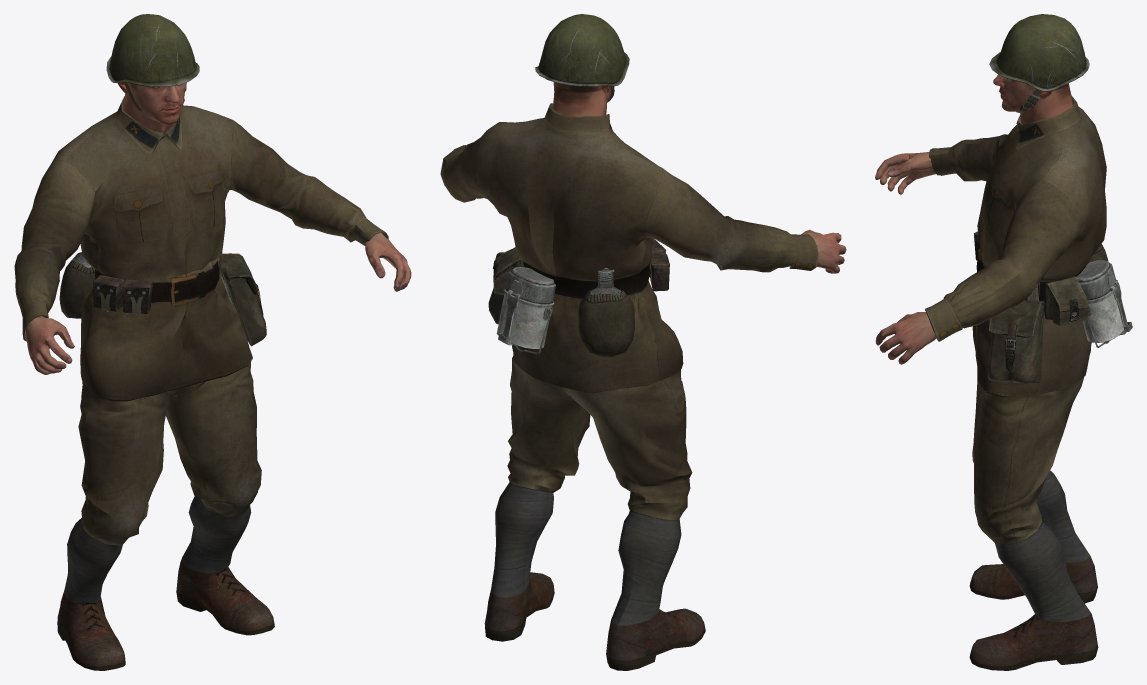
File: russianSoldier.glb
3 views of the same model, side by side, from view 1: azimuth 30°, elevation 25°; view 2: azimuth 150°, elevation 25°; view 3: azimuth 270°, elevation 25° (orthographic).
Parts seen in each view (by area): view 1: Object_5, Object_4, Object_3; view 2: Object_5, Object_4, Object_3; view 3: Object_5, Object_4, Object_3.
Part boxes in pixels (bbox=[...]): Object_5: bbox=[14, 96, 411, 670]; Object_4: bbox=[59, 14, 266, 346]; Object_3: bbox=[117, 82, 185, 133]; Object_5: bbox=[440, 103, 846, 670]; Object_4: bbox=[488, 14, 669, 357]; Object_3: bbox=[552, 82, 610, 116]; Object_5: bbox=[875, 95, 1106, 670]; Object_4: bbox=[974, 14, 1132, 383]; Object_3: bbox=[993, 74, 1072, 124].
Size of the model in its own units: 1.05 by 1.64 by 0.6288.
4 materials, 4 textured.
